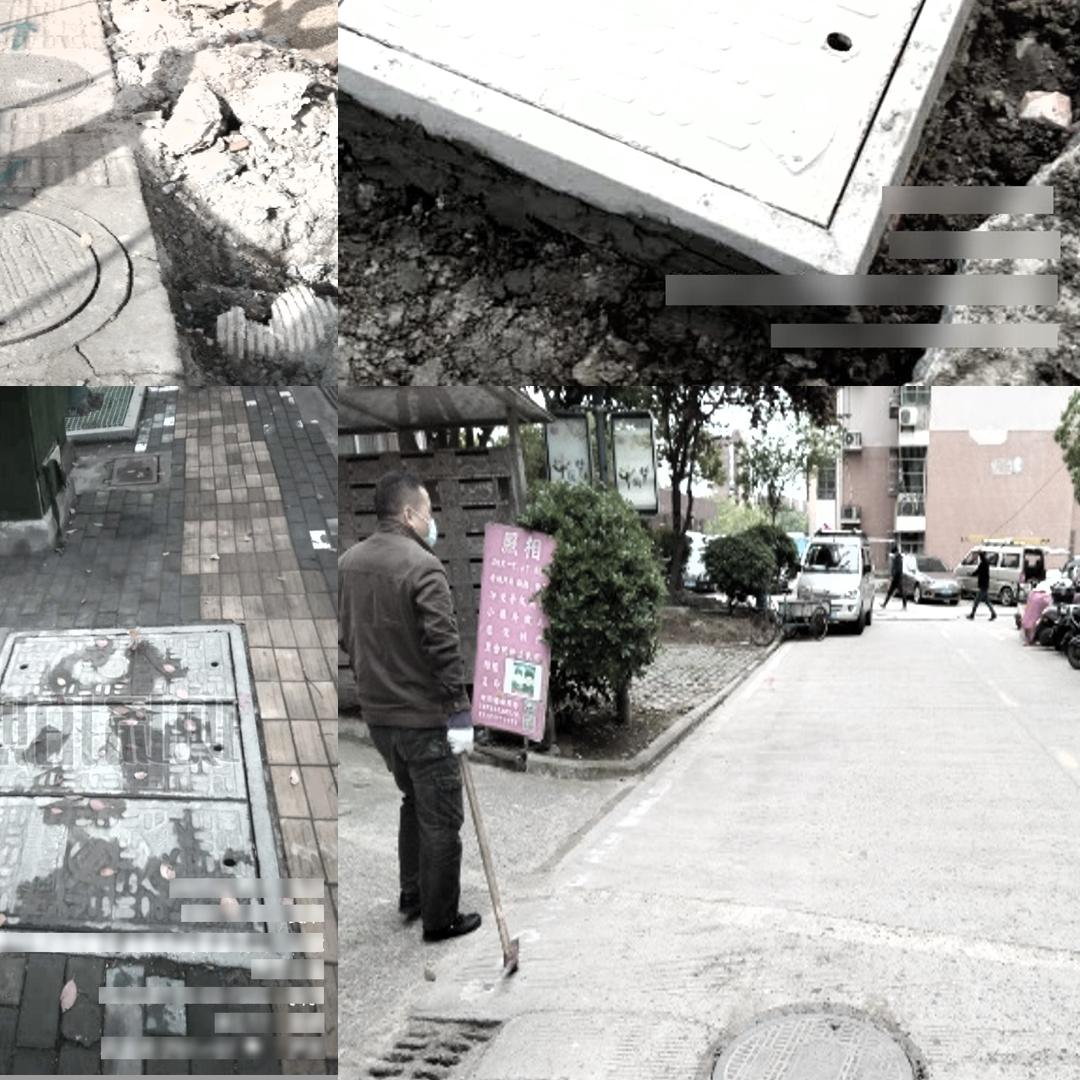good: (340, 0, 1073, 274), (0, 621, 293, 963), (0, 191, 129, 371), (695, 1002, 929, 1080), (0, 50, 87, 109)
